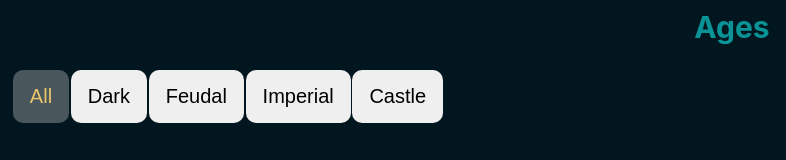
Test case: Ages component renders › button should be disabled when clicked, and if user clicks another button should be enabled again
Click the button "Imperial". click: (298, 96)
box: [246, 70, 351, 123]
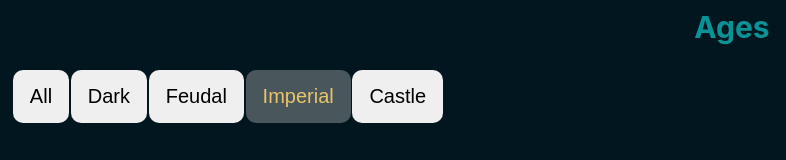
Expected: the button "Imperial" is disabled, [246, 70, 351, 123]
Click the button "Dark". click: (109, 96)
box: [71, 70, 147, 123]
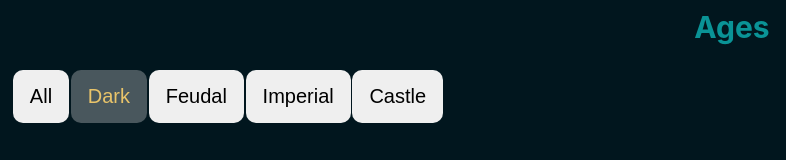
Expected: the button "Imperial" is enabled, [246, 70, 351, 123]
